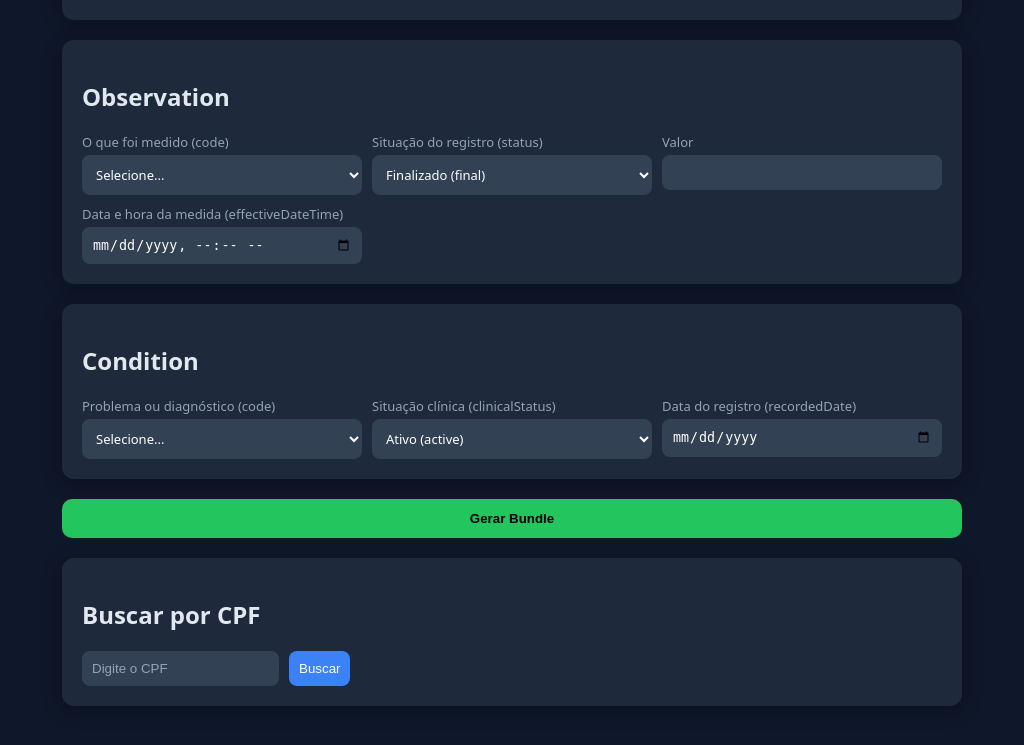
Test: o erro de um campo some quando a pessoa volta a editá-lo
(page scrolled)
Click the button "Gerar Bundle". click: click(512, 519)
box: [62,499,962,538]
(page scrolled)
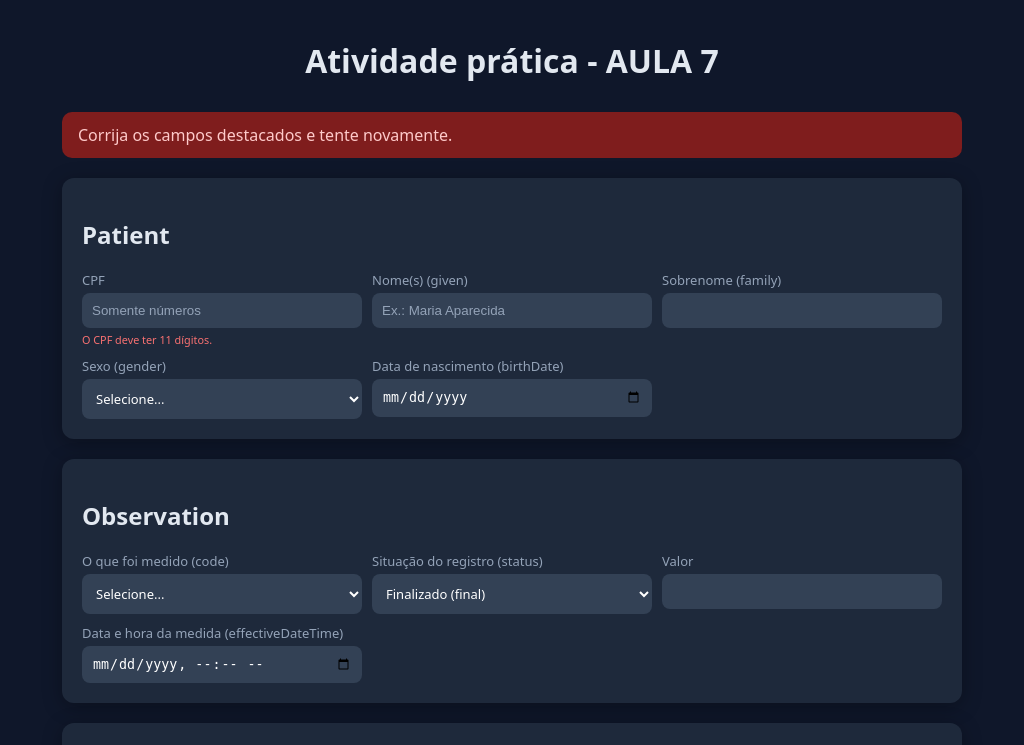
Expected: the text "O CPF deve ter 11 dígitos." is shown, [82,332,212,347]
Type "123" into the field labelled "CPF O CPF deve ter 11 dígitos.". click: (222, 311)
box: [82,293,362,328]
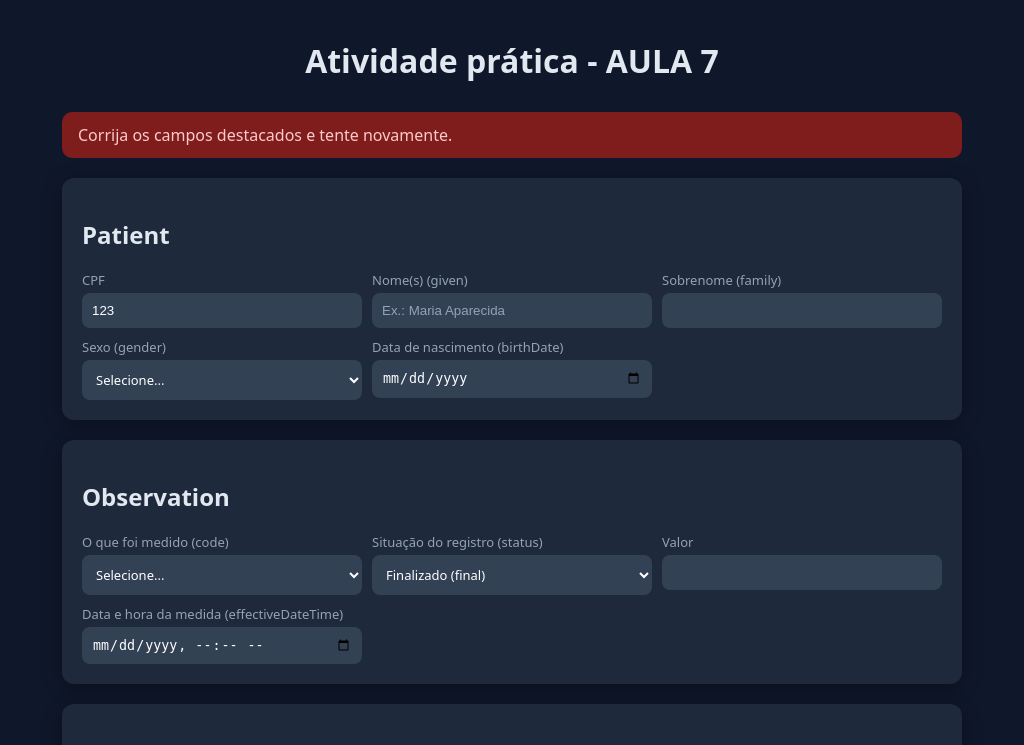
Expected: the text "O CPF deve ter 11 dígitos." is gone
